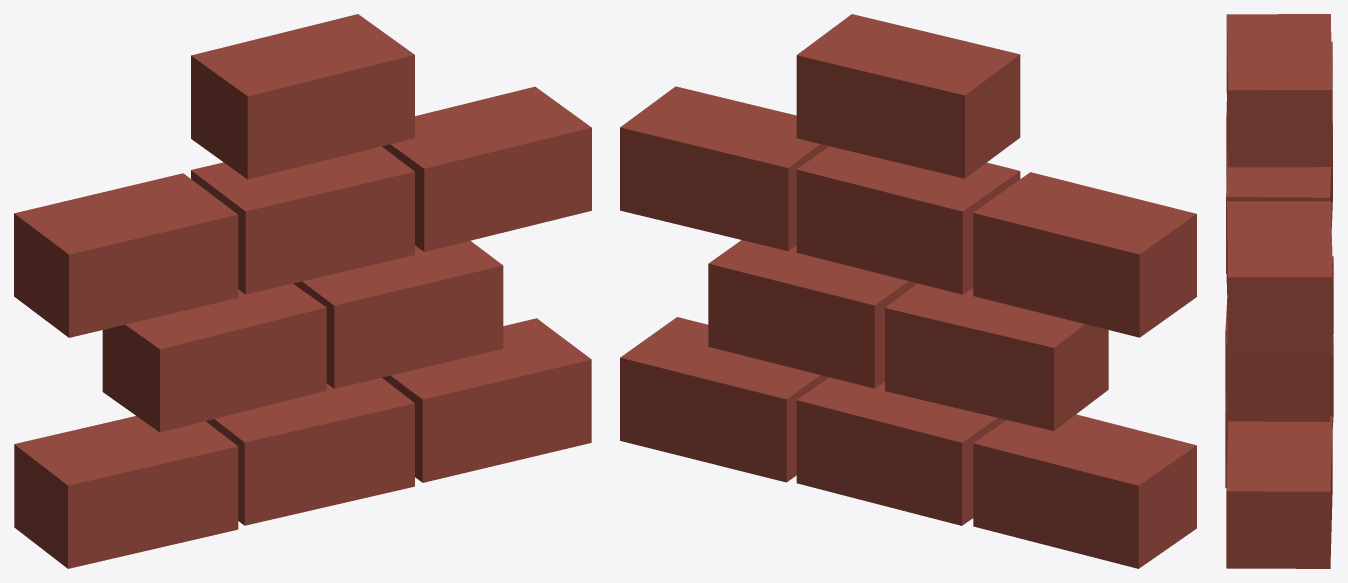
File: bricks_stack.glb
3 renders of one model, left to right at view 1: azimuth 30°, elevation 25°; view 2: azimuth 150°, elevation 25°; view 3: azimuth 270°, elevation 25°, orthographic. The views are drawn at different scales.
Size of the model in its own units: 2.18 by 1.71 by 0.4216.
